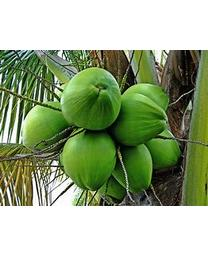coconut: (60, 66, 122, 131), (61, 129, 117, 190), (111, 93, 168, 146), (21, 100, 70, 153), (112, 140, 154, 194)
